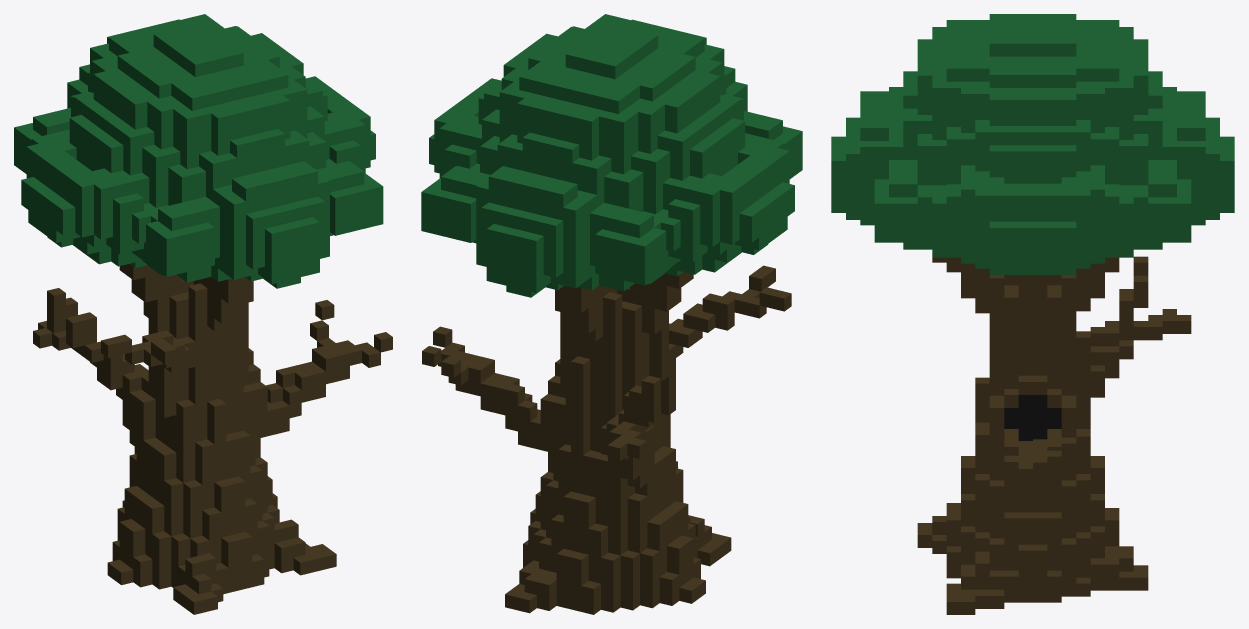
Rendered from YAVD_Tiles-65.obj.
The picture shows the model from 3 angles, left to right: view 1: azimuth 30°, elevation 25°; view 2: azimuth 150°, elevation 25°; view 3: azimuth 270°, elevation 25°; orthographic projection. The views are drawn at different scales.
Parts seen in each view (by area): view 1: YAVD_Tiles-65; view 2: YAVD_Tiles-65; view 3: YAVD_Tiles-65.
Boxes of the visible parts, <box> form: YAVD_Tiles-65: <box>14,14,392,614</box>; YAVD_Tiles-65: <box>421,14,802,614</box>; YAVD_Tiles-65: <box>831,14,1234,614</box>.
Size of the model in its own units: 28 by 41 by 28.
